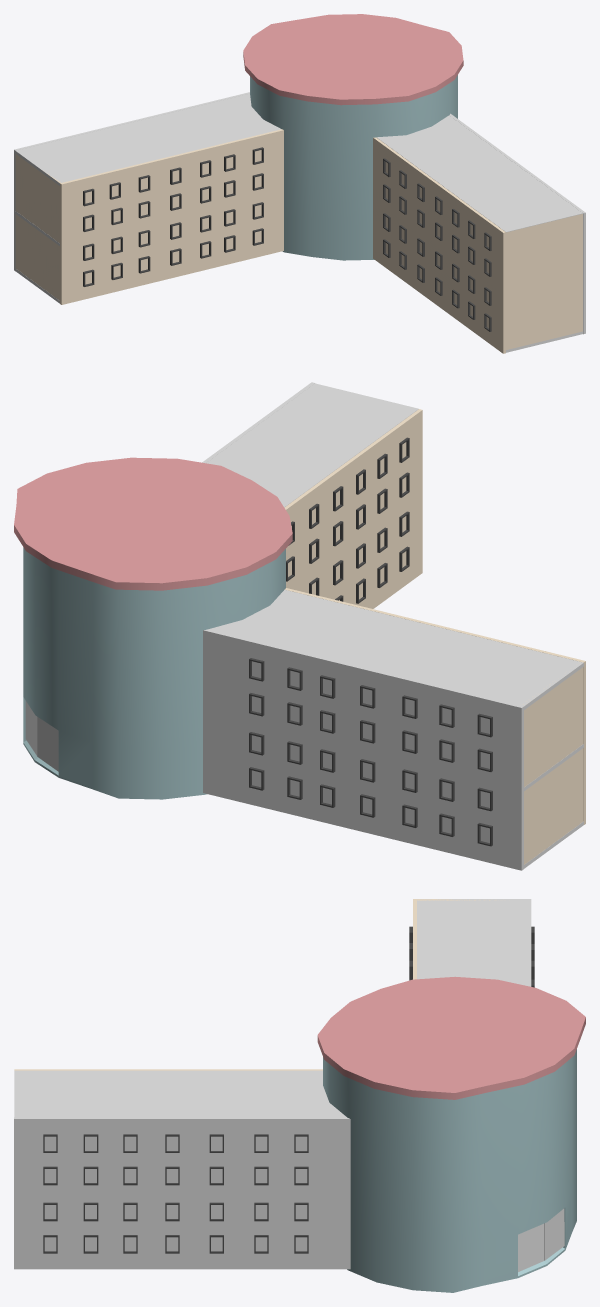
The model's file is MediaBuilding.glb.
3 views of the same model, one above another, from view 1: azimuth 30°, elevation 25°; view 2: azimuth 150°, elevation 25°; view 3: azimuth 270°, elevation 25° (orthographic). The views are drawn at different scales.
Parts seen in each view (by area): view 1: pCylinder25, pCylinder26, pCube1199, pCube1190, pCube1201, pCube1196, pCube1203, pCube1198, pCube1193, pCube1202, pCube1200, pCube1197; view 2: pCylinder25, pCylinder26, pCube1200, pCube1189, pCube1201, pCube1196, pCube1198, pCube1202, pCube1193, pCube1199, pCube1325; view 3: pCylinder25, pCube1197, pCylinder26, pCube1194, pCube1196, pCube1201, pCube1326, pCube1325, pCube1198.
Boxes of the visible parts, box(x1,y1,x2,y2) form: pCylinder25: box(250, 75, 457, 260); pCylinder26: box(243, 14, 463, 105); pCube1199: box(60, 129, 283, 244); pCube1190: box(60, 190, 283, 304); pCube1201: box(15, 93, 281, 185); pCube1196: box(376, 115, 582, 232); pCube1203: box(506, 214, 582, 349); pCube1198: box(373, 137, 505, 293); pCube1193: box(373, 198, 505, 353); pCube1202: box(15, 154, 60, 300); pCube1200: box(14, 92, 249, 210); pCube1197: box(449, 113, 585, 273); pCylinder25: box(23, 547, 285, 799); pCylinder26: box(14, 457, 292, 590); pCube1200: box(203, 629, 523, 789); pCube1189: box(203, 712, 523, 870); pCube1201: box(208, 589, 583, 709); pCube1196: box(206, 383, 418, 507); pCube1198: box(284, 409, 422, 588); pCube1202: box(523, 662, 583, 864); pCube1193: box(290, 491, 422, 608); pCube1199: box(285, 588, 585, 743); pCube1325: box(37, 717, 58, 771); pCylinder25: box(323, 1049, 576, 1292); pCube1197: box(14, 1117, 350, 1194); pCylinder26: box(317, 976, 585, 1099); pCube1194: box(14, 1194, 350, 1269); pCube1196: box(14, 1070, 346, 1117); pCube1201: box(417, 899, 527, 985); pCube1326: box(518, 1223, 544, 1271); pCube1325: box(544, 1208, 564, 1260); pCube1198: box(14, 1069, 322, 1070).
Bounding box in the file's own units: 1.49 × 0.5753 × 1.47.
